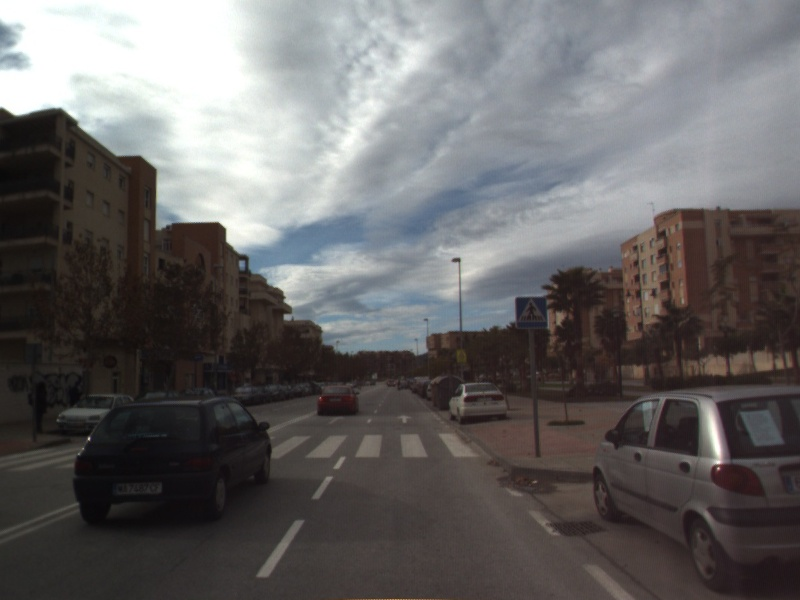STRAIGHT: (326, 414, 347, 426), (394, 413, 414, 425)
